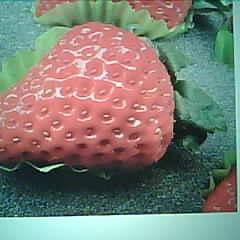straw-ripe: (0, 22, 175, 173)
